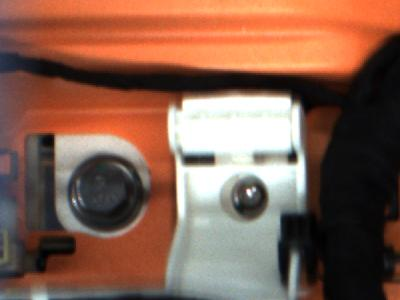nut_b: (64, 152, 154, 238)
